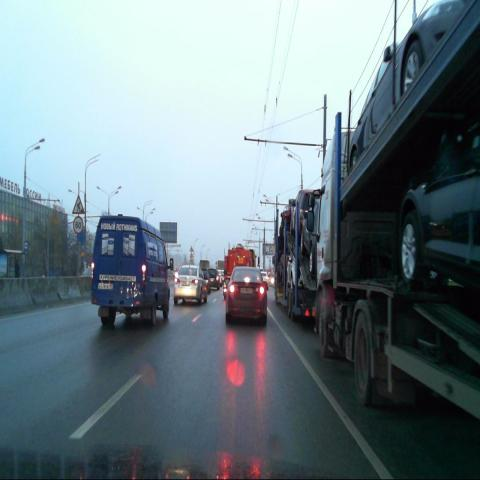1_25: (72, 195, 84, 214)
